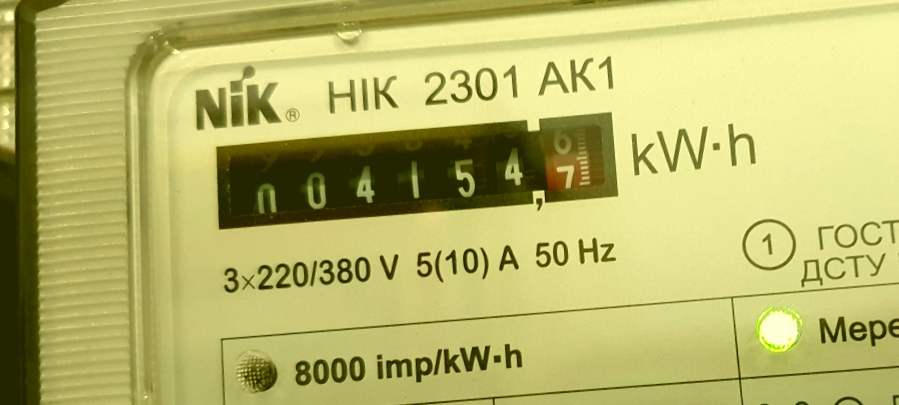0: (302, 167, 328, 210), (253, 177, 278, 213)
1: (406, 157, 422, 199)
4: (351, 162, 377, 205), (500, 142, 524, 187)
5: (451, 152, 478, 198)
6: (550, 124, 574, 155)
7: (553, 160, 576, 190)
screen: (195, 95, 636, 243)
